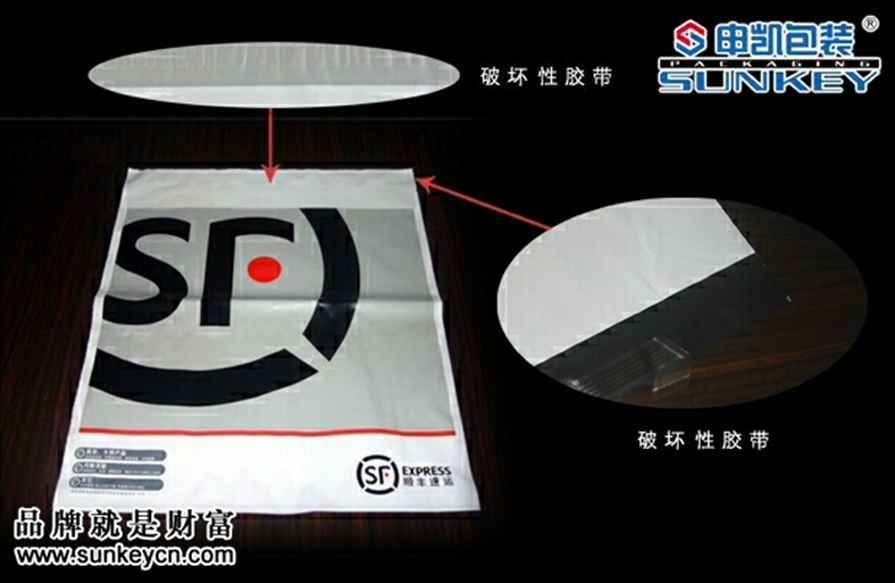塑料袋: (55, 170, 478, 513)
